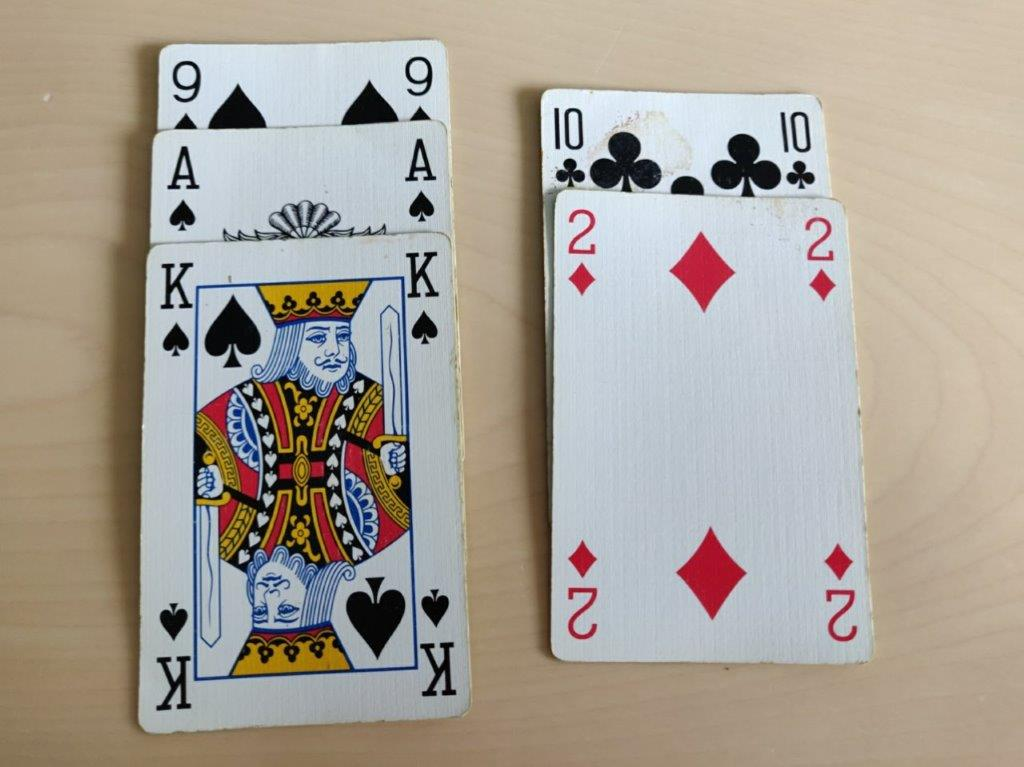10C: (778, 104, 817, 195), (548, 98, 586, 189)
2D: (564, 204, 601, 299), (800, 214, 837, 309)
9S: (164, 50, 205, 133), (399, 46, 440, 129)
AS: (164, 141, 202, 238), (401, 134, 439, 231)
KS: (156, 259, 201, 362), (402, 249, 447, 352)
